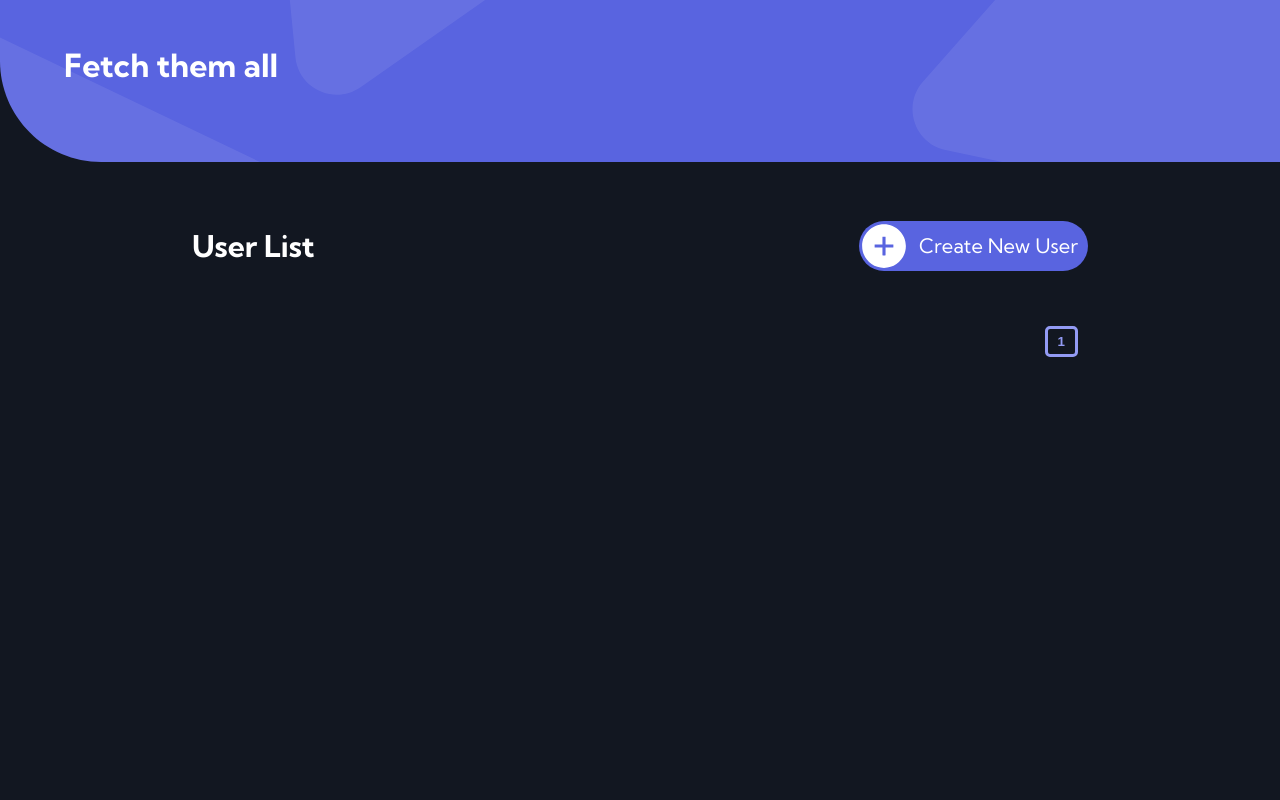
Test case: Click on Create New User button opens Create New User Page
The image size is (1280, 800).
Click the link "Create New User": [974, 246] box [859, 221, 1088, 271]
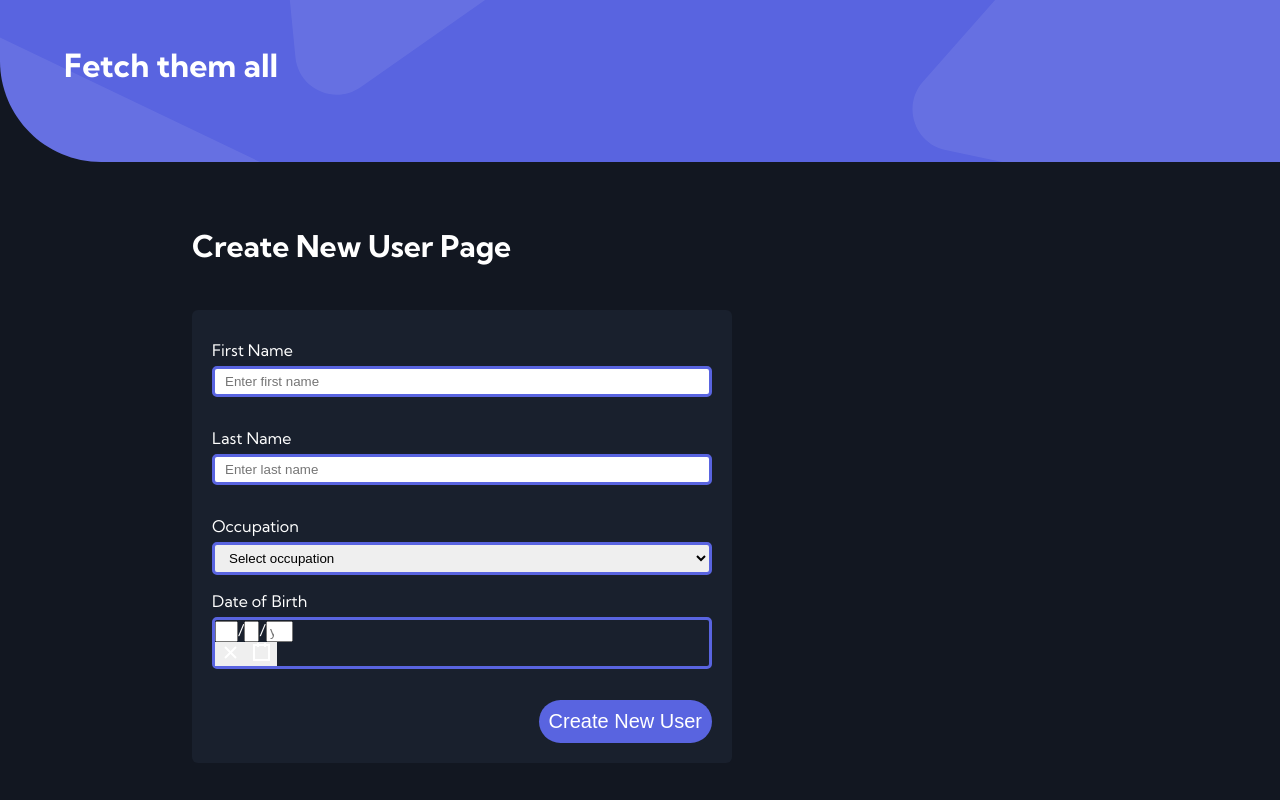
expect the heading "Create New User Page" is shown: met, box [192, 227, 511, 265]
